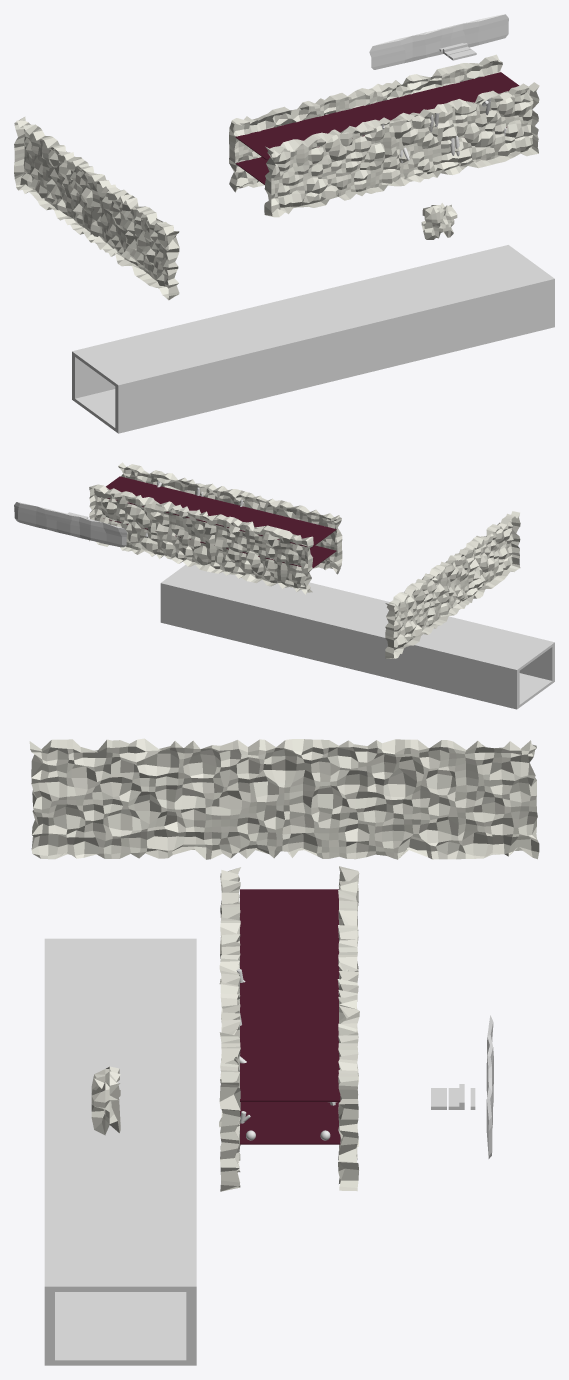
The model's file is KIWI_JAM_ASSETS_001.fbx.
3 views of the same model, one above another, from view 1: azimuth 30°, elevation 25°; view 2: azimuth 150°, elevation 25°; view 3: azimuth 270°, elevation 25° (orthographic). The views are drawn at different scales.
Visible parts, largest first — view 1: Cube, Cube.003, Cube.008, Cube.007, Plane.003, Plane.002, Cube.001; view 2: Cube, Cube.007, Cube.008, Cube.003, Plane.003, Plane.002, Plane; view 3: Cube, Cube.008, Plane.003, Cube.007, Cube.003, Plane, Cube.001, Plane.002.
Part boxes in pixels (x1,y1,x2,y2): Cube: [72, 245, 554, 433]; Cube.003: [264, 82, 539, 217]; Cube.008: [14, 116, 179, 300]; Cube.007: [229, 54, 502, 192]; Plane.003: [235, 72, 519, 159]; Plane.002: [369, 14, 508, 69]; Cube.001: [421, 203, 457, 239]; Cube: [160, 564, 554, 709]; Cube.007: [89, 484, 313, 594]; Cube.008: [385, 511, 520, 658]; Cube.003: [118, 462, 342, 574]; Plane.003: [106, 476, 336, 547]; Plane.002: [14, 502, 127, 547]; Plane: [103, 518, 336, 568]; Cube: [44, 938, 196, 1365]; Cube.008: [29, 738, 539, 859]; Plane.003: [240, 889, 340, 1101]; Cube.007: [337, 866, 359, 1191]; Cube.003: [219, 867, 240, 1191]; Plane: [240, 1102, 340, 1144]; Cube.001: [91, 1066, 120, 1135]; Plane.002: [486, 1015, 493, 1158].
Bounding box in the file's own units: 5605 × 1970 × 2875.
